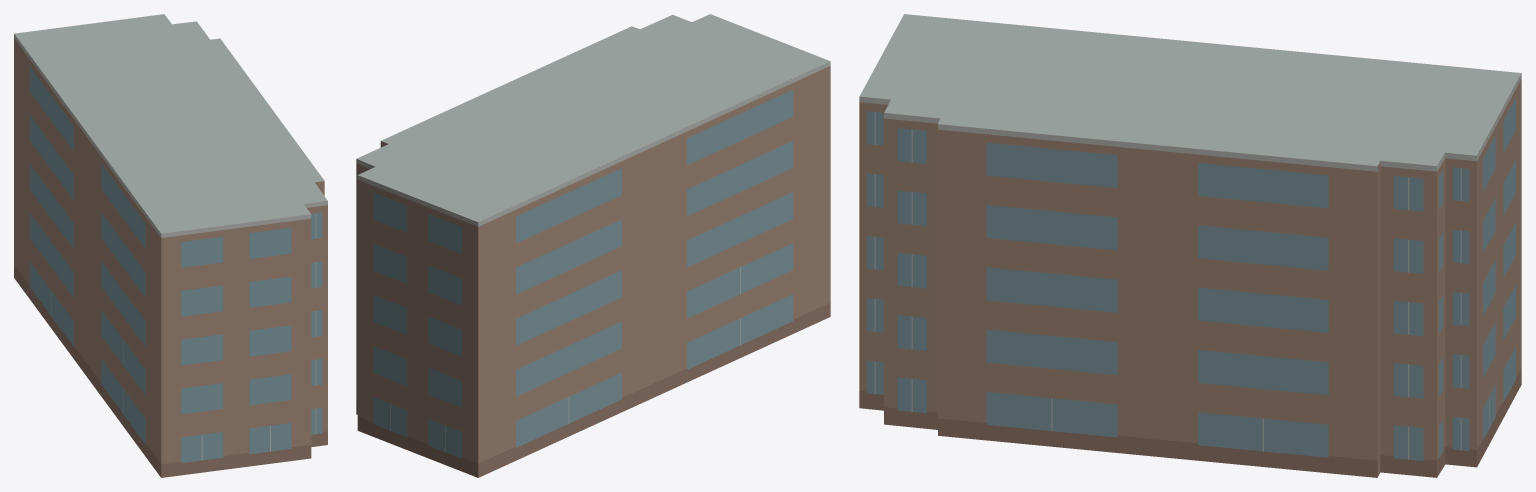
Rendered from survey-upis-32657221.glb.
3 views of the same model, side by side, from view 1: azimuth 30°, elevation 25°; view 2: azimuth 150°, elevation 25°; view 3: azimuth 270°, elevation 25° (orthographic). The views are drawn at different scales.
Visible parts, largest first — view 1: survey-upis-32657221.tmp; view 2: survey-upis-32657221.tmp; view 3: survey-upis-32657221.tmp.
Boxes of the visible parts, x1,y1,x2,y2 form: survey-upis-32657221.tmp: [14, 14, 327, 477]; survey-upis-32657221.tmp: [356, 14, 830, 477]; survey-upis-32657221.tmp: [859, 14, 1521, 477].
Bounding box in the file's own units: 14.37 × 13.7 × 26.39.
